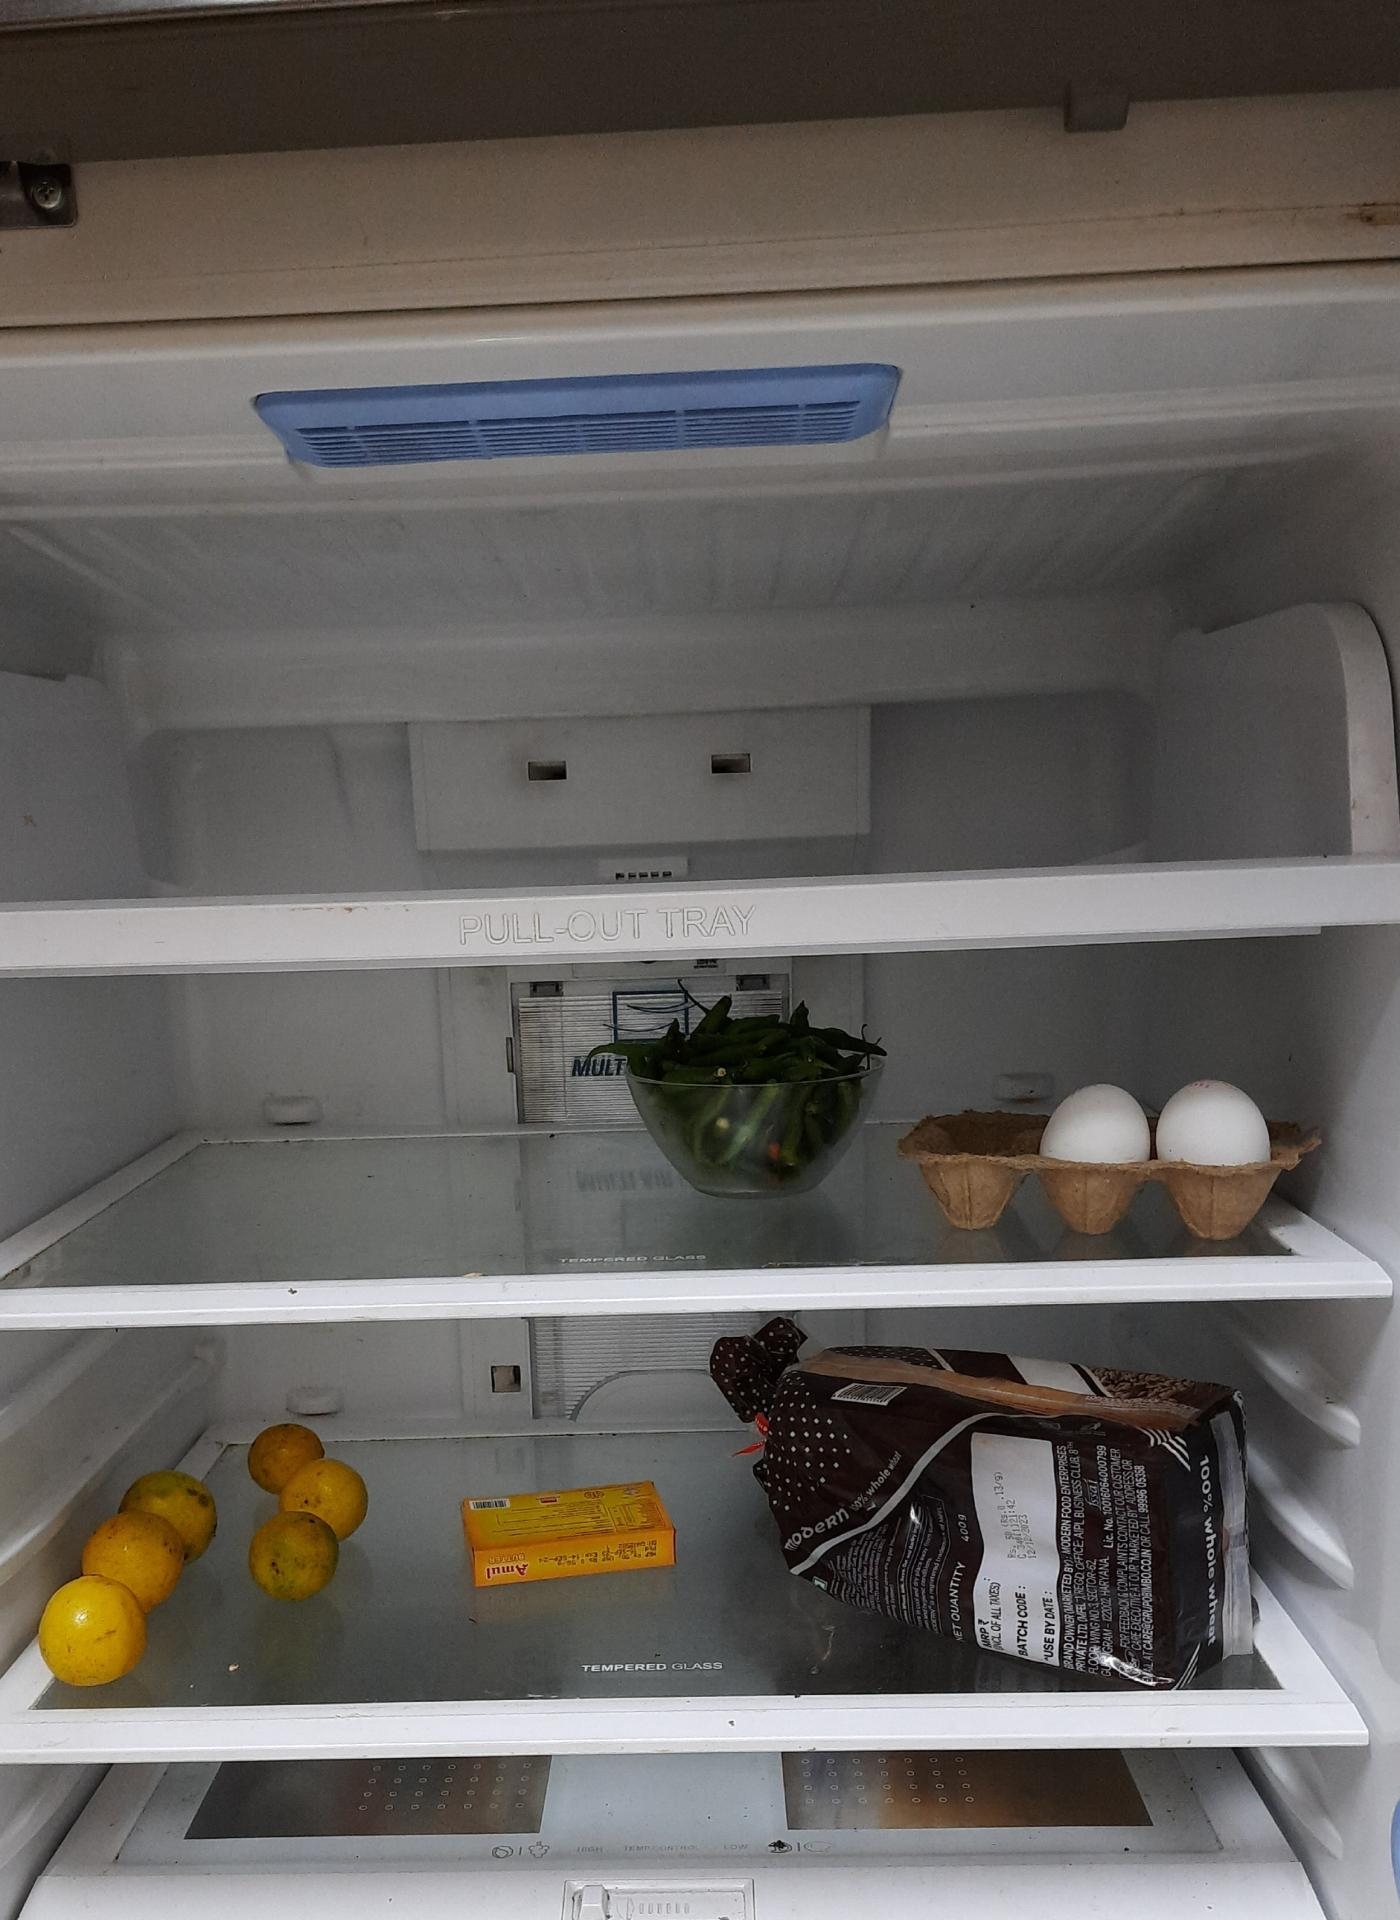bread: (717, 1357, 1254, 1689)
butter: (456, 1480, 674, 1588)
chillies: (631, 1000, 880, 1187)
egg: (1039, 1082, 1285, 1191)
lemon: (28, 1455, 230, 1686), (250, 1425, 376, 1605)
